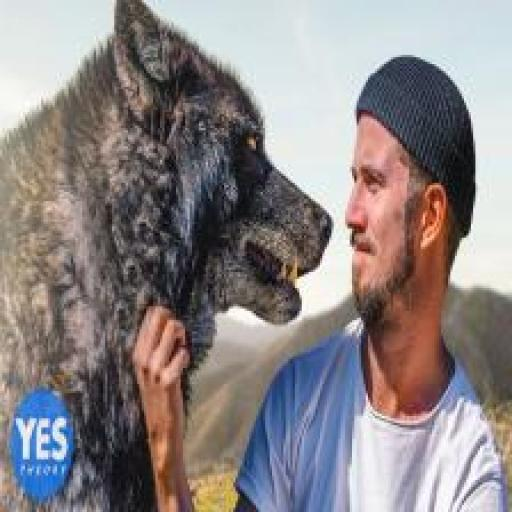wolf: (0, 0, 341, 512)
